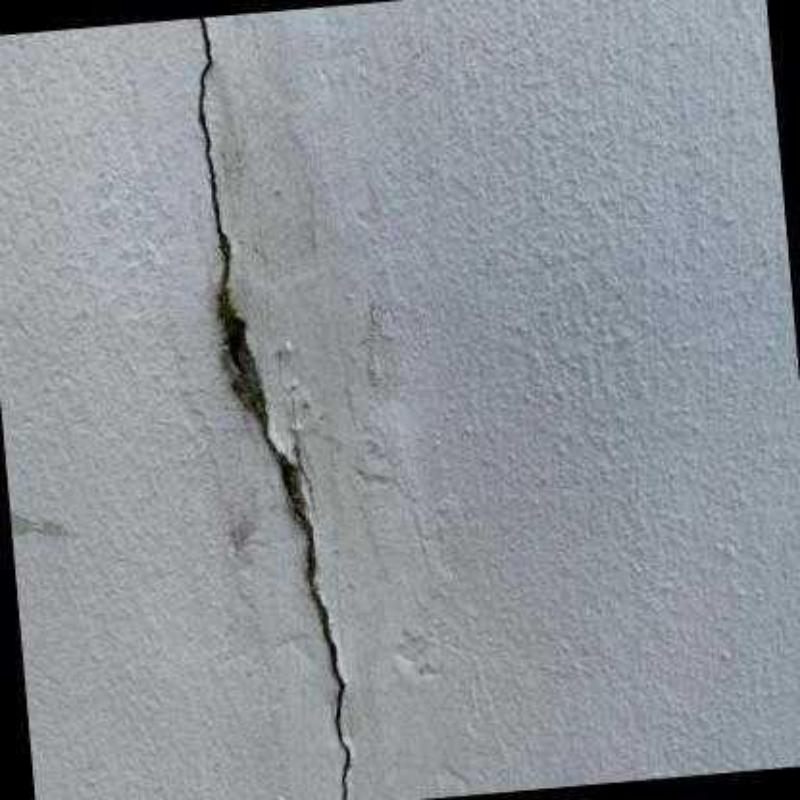pothole: (195, 17, 353, 799), (275, 350, 319, 523)
